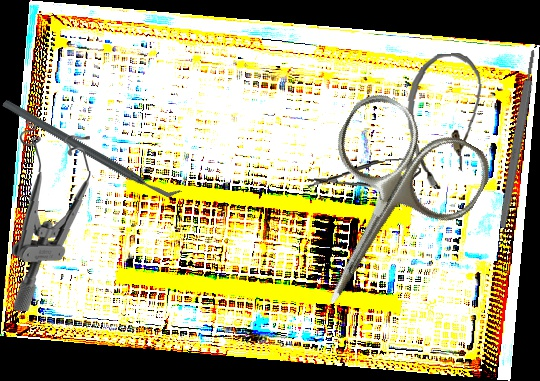Cannula: (403, 51, 490, 191)
Chopper: (0, 49, 183, 248)
Iris Scissors: (263, 84, 500, 341)
Micro Scissor: (306, 157, 422, 194)
Scalpel Handle: (497, 49, 539, 229)
Speculum: (7, 118, 97, 312)
